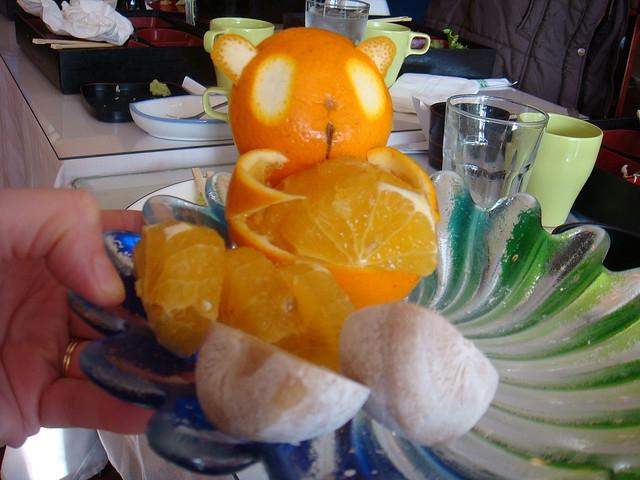orange: (211, 27, 396, 185), (246, 154, 438, 278), (338, 302, 499, 447), (195, 322, 372, 444), (131, 220, 226, 358), (216, 246, 309, 344), (292, 271, 356, 374), (366, 147, 441, 225)
